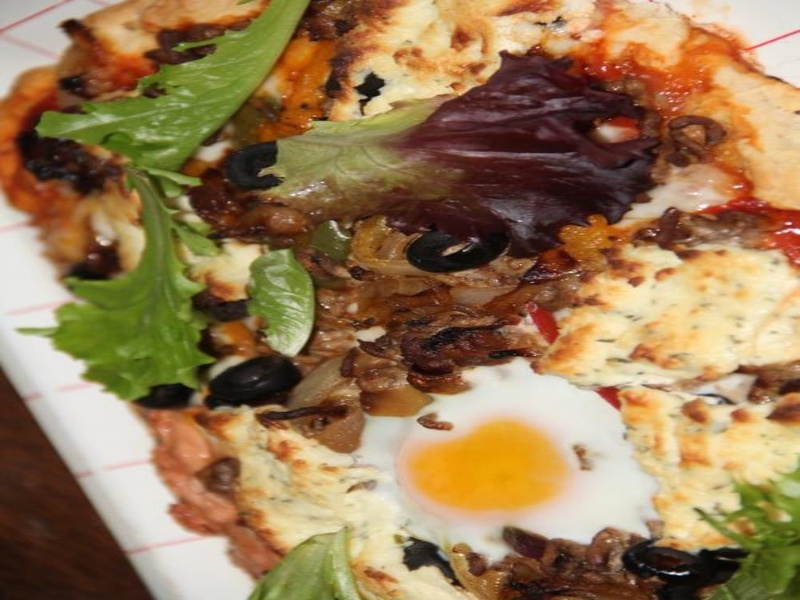oeuf: (398, 410, 588, 521)
